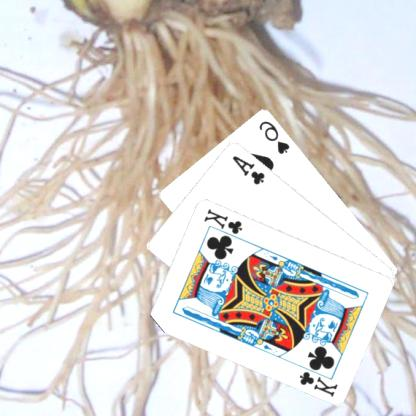6S: (258, 117, 292, 155)
AC: (231, 152, 268, 186)
KC: (202, 206, 245, 242), (298, 362, 340, 398)
